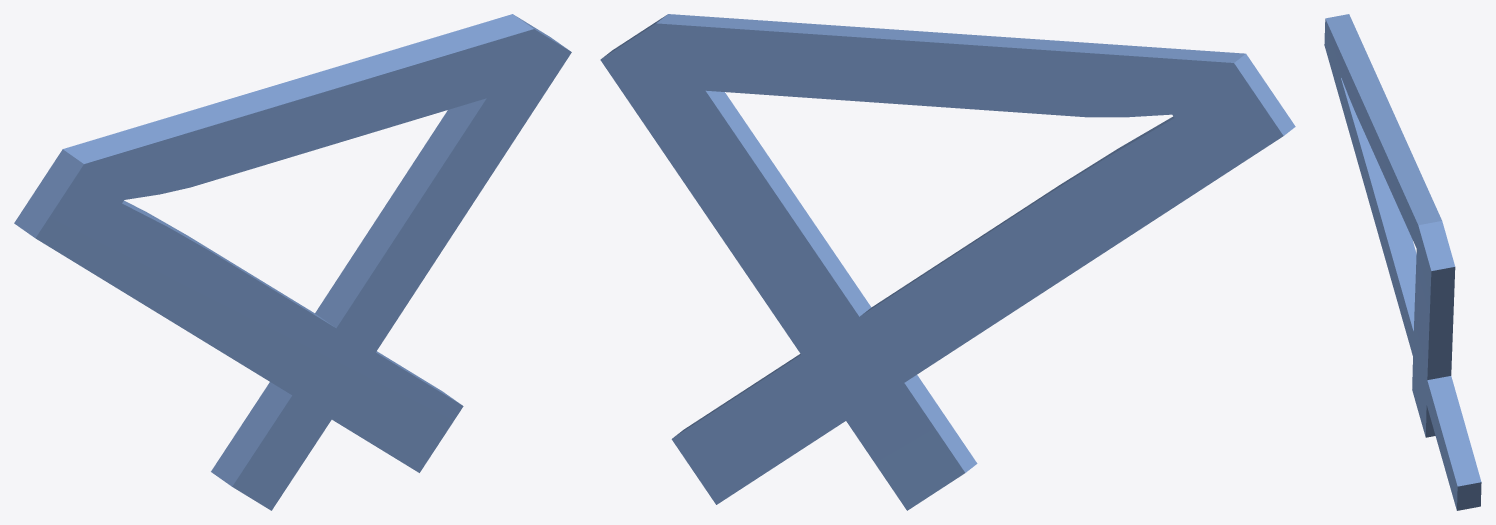
Rendered from New_Number_4.gltf.
3 views of the same model, side by side, from view 1: azimuth 30°, elevation 25°; view 2: azimuth 150°, elevation 25°; view 3: azimuth 270°, elevation 25° (orthographic). The views are drawn at different scales.
Visible parts, largest first — view 1: Part 436; view 2: Part 436; view 3: Part 436.
Part boxes in pixels (x1,y1,x2,y2): Part 436: (14,14,571,510); Part 436: (600,14,1295,510); Part 436: (1324,14,1481,510).
Bounding box in the file's own units: 0.0053 × 0.00398 × 0.00164.
